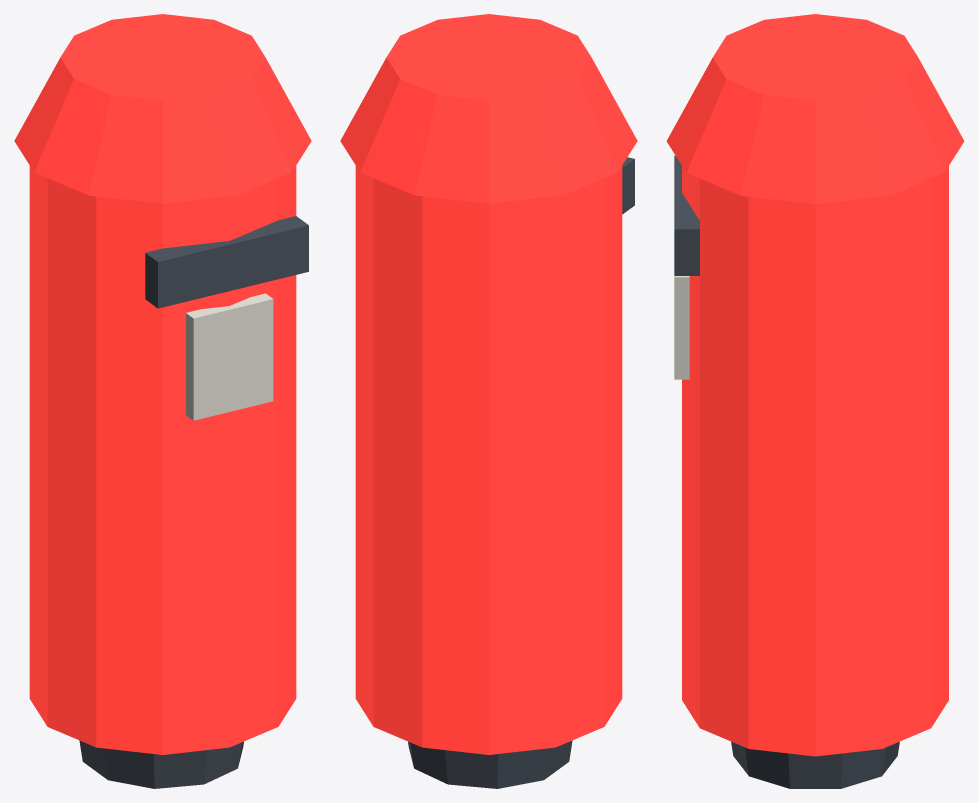
The model's file is prop_mailbox.glb.
3 views of the same model, side by side, from view 1: azimuth 30°, elevation 25°; view 2: azimuth 150°, elevation 25°; view 3: azimuth 270°, elevation 25° (orthographic).
Visible parts, largest first — view 1: body.055, cap.001, label.001, slot.001, base.056; view 2: body.055, cap.001, base.056, slot.001; view 3: body.055, cap.001, base.056, slot.001, label.001.
Part boxes in pixels (bbox=[...]): body.055: bbox=[29, 166, 296, 754]; cap.001: bbox=[14, 14, 311, 203]; label.001: bbox=[186, 293, 273, 420]; slot.001: bbox=[145, 216, 308, 308]; base.056: bbox=[79, 740, 243, 788]; body.055: bbox=[355, 166, 622, 754]; cap.001: bbox=[340, 14, 637, 203]; base.056: bbox=[408, 740, 572, 788]; slot.001: bbox=[622, 157, 634, 214]; body.055: bbox=[682, 166, 948, 756]; cap.001: bbox=[666, 14, 964, 204]; base.056: bbox=[731, 741, 899, 788]; slot.001: bbox=[674, 155, 699, 275]; label.001: bbox=[674, 276, 689, 379].
Size of the model in its own units: 0.58 by 1.5 by 0.58.
